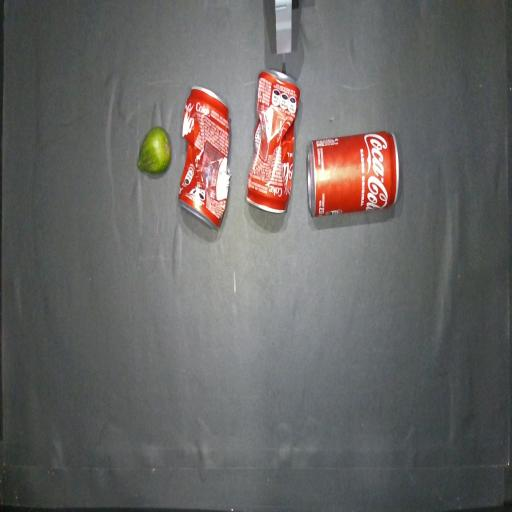higo: (137, 127, 171, 174)
lata: (306, 131, 399, 216)
lata_defectuoso: (246, 70, 300, 213), (179, 87, 230, 226)
